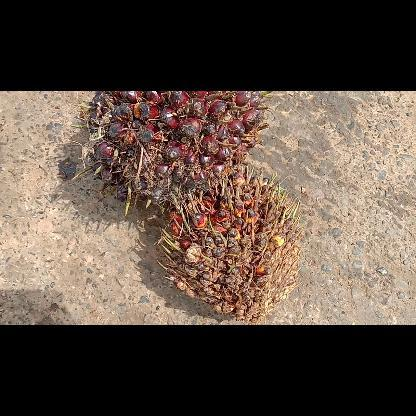Kurang masak: (72, 91, 270, 215)
TBS abnormal: (158, 162, 302, 322)
